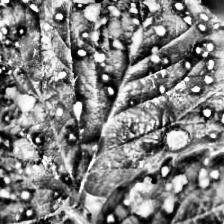Leaf Spot: (0, 0, 224, 224), (89, 149, 224, 224), (0, 180, 87, 224)
